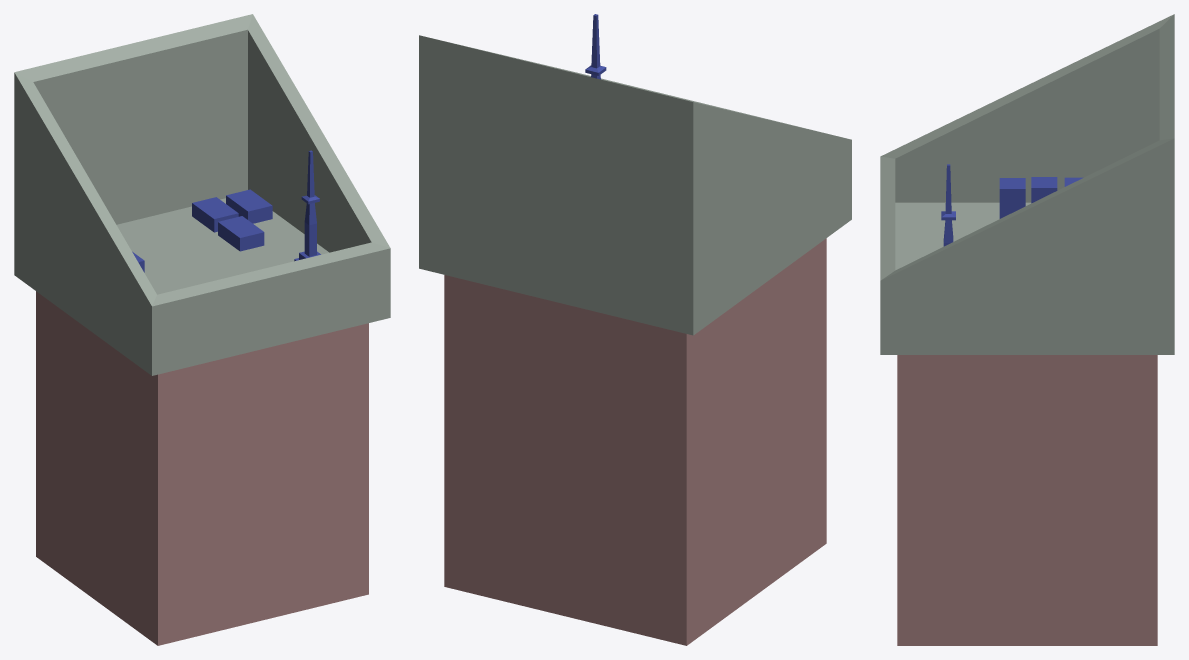
File: Building_C2.fbx
3 views of the same model, side by side, from view 1: azimuth 30°, elevation 25°; view 2: azimuth 150°, elevation 25°; view 3: azimuth 270°, elevation 25° (orthographic). The views are drawn at different scales.
Parts seen in each view (by area): view 1: BuildingA14; view 2: BuildingA14; view 3: BuildingA14.
Boxes of the visible parts, <box> form: BuildingA14: <box>14,14,390,645</box>; BuildingA14: <box>419,14,851,645</box>; BuildingA14: <box>880,14,1174,645</box>.
Size of the model in its own units: 6.81 by 13.15 by 6.81.
